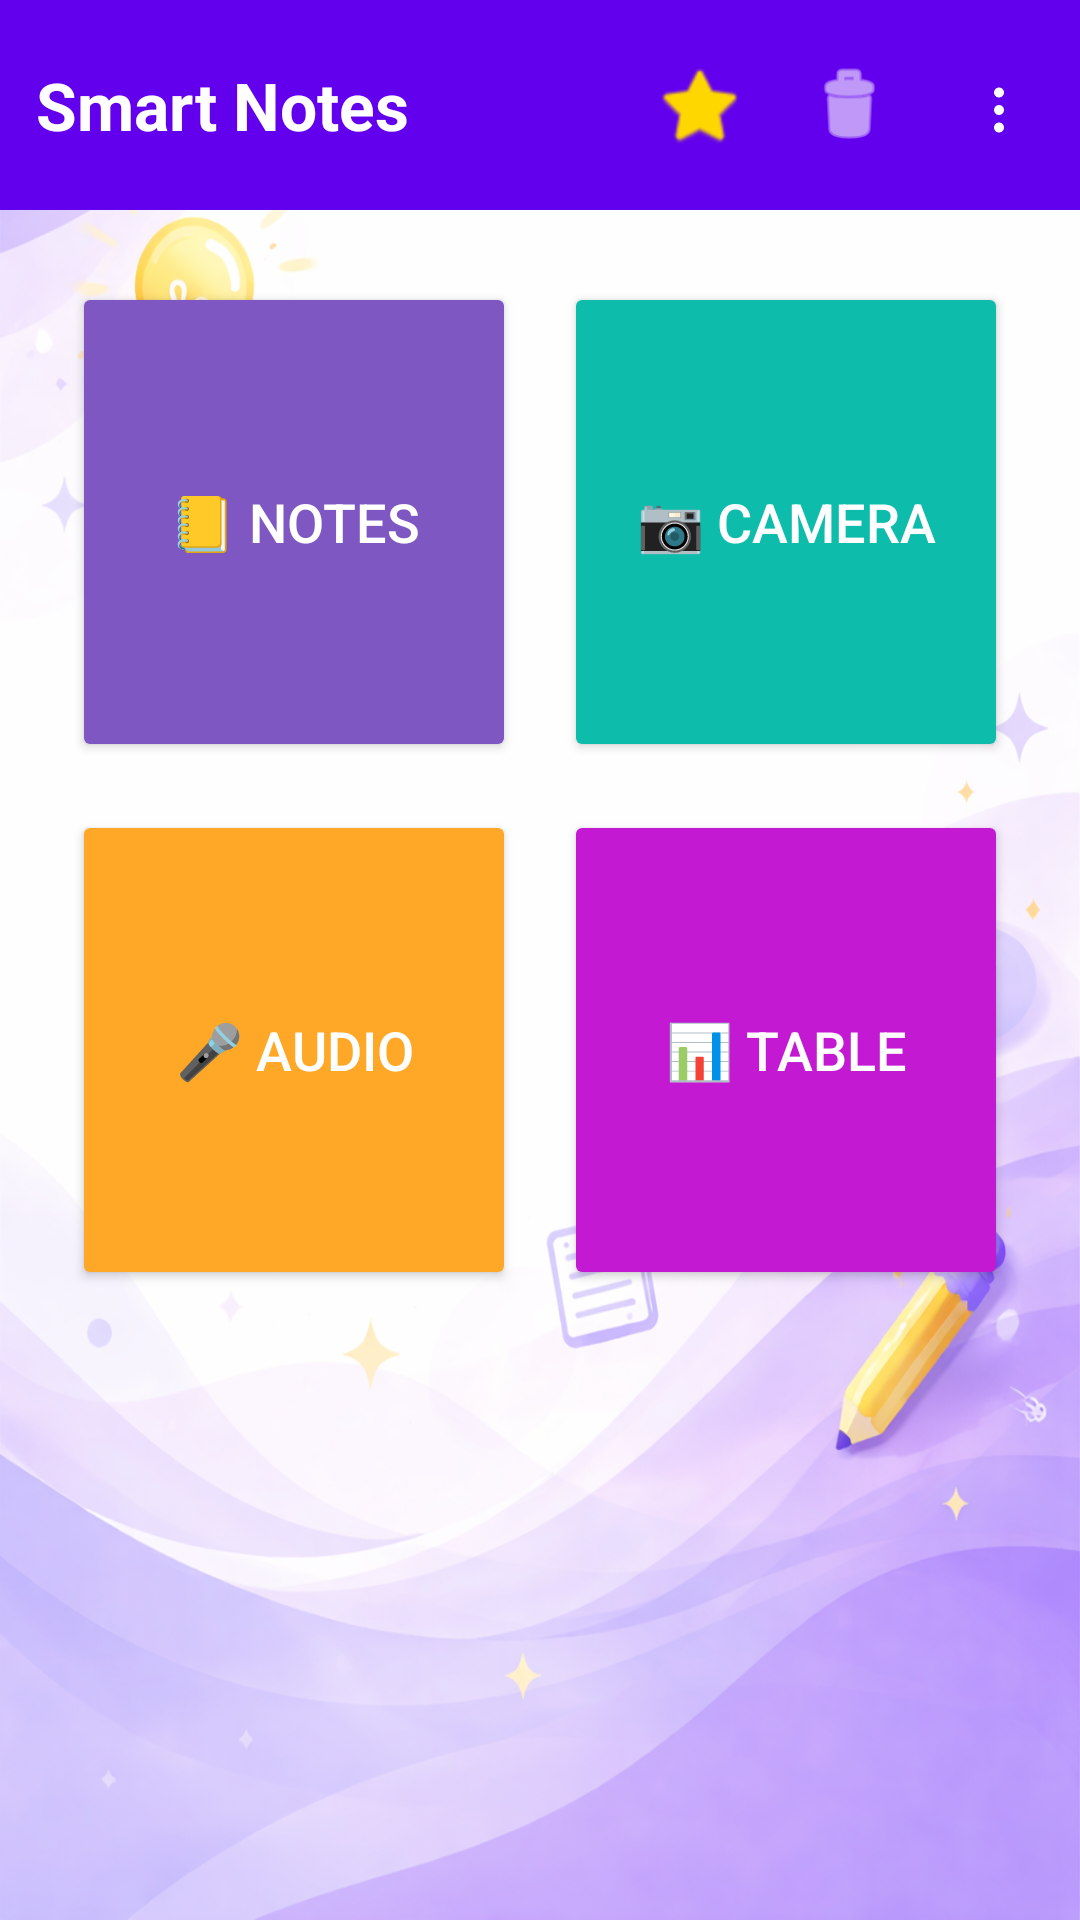

Where icons sit on this 1080px×1920px app screen, as [x1=x1, y1=y1, x2=x2, y2=y2]:
delete: [x1=824, y1=68, x2=875, y2=139]
more vert: [x1=994, y1=87, x2=1004, y2=133]
star on: [x1=662, y1=69, x2=737, y2=142]
